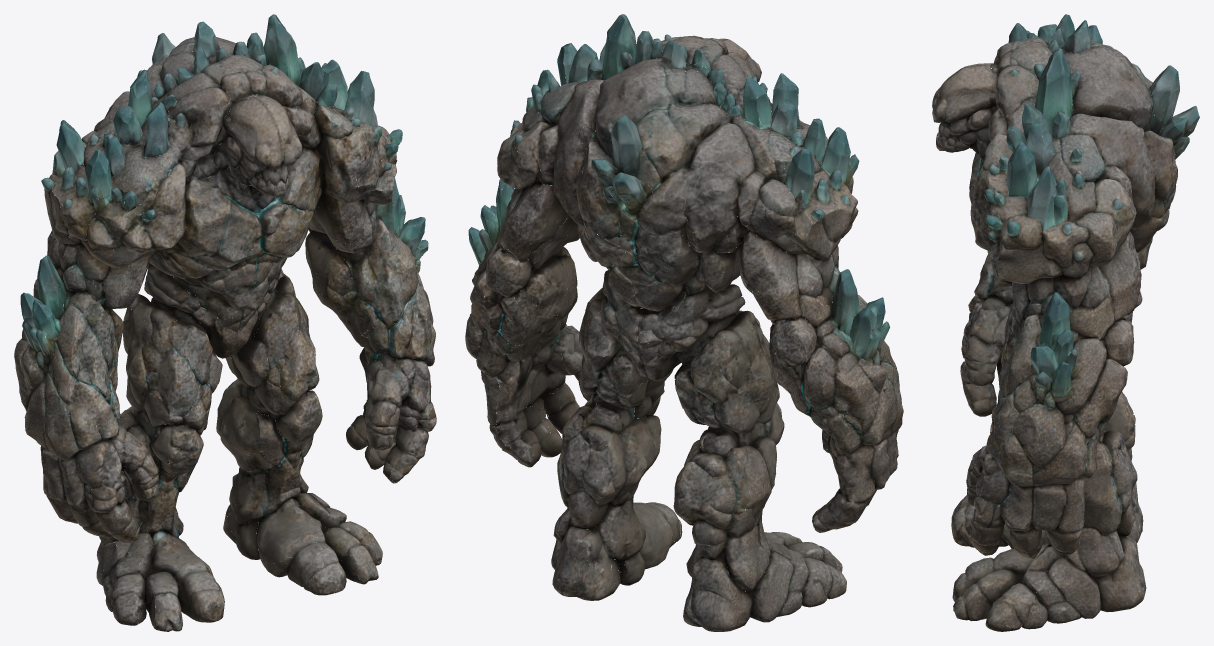
File: guardian-tripo.glb
The picture shows the model from 3 angles, left to right: view 1: azimuth 30°, elevation 25°; view 2: azimuth 150°, elevation 25°; view 3: azimuth 270°, elevation 25°; orthographic projection. The views are drawn at different scales.
Parts seen in each view (by area): view 1: tripo_node_41d62f4f-a25c-468a-8fdc-1778018bda10; view 2: tripo_node_41d62f4f-a25c-468a-8fdc-1778018bda10; view 3: tripo_node_41d62f4f-a25c-468a-8fdc-1778018bda10.
Part boxes in pixels (x1,y1,x2,y2): tripo_node_41d62f4f-a25c-468a-8fdc-1778018bda10: [14, 14, 436, 631]; tripo_node_41d62f4f-a25c-468a-8fdc-1778018bda10: [465, 14, 903, 631]; tripo_node_41d62f4f-a25c-468a-8fdc-1778018bda10: [932, 14, 1199, 631].
Size of the model in its own units: 1.61 by 2.1 by 0.9301.
Materials: 1 (1 with a texture image).
